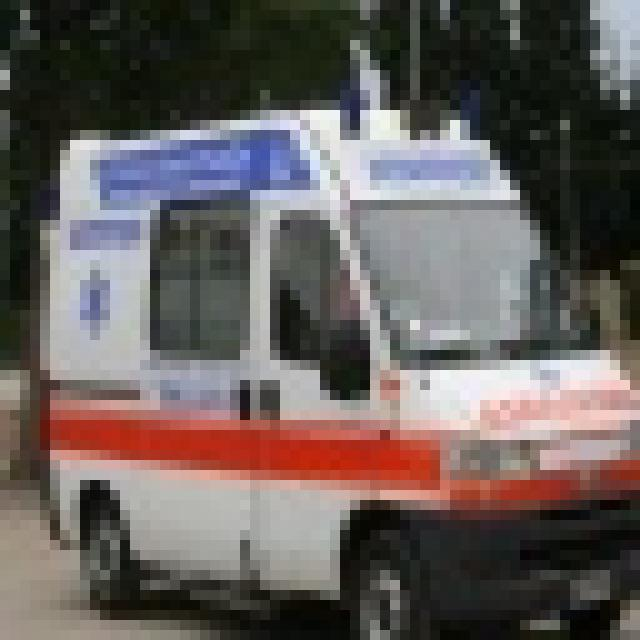Ambulance: (20, 100, 630, 630)
